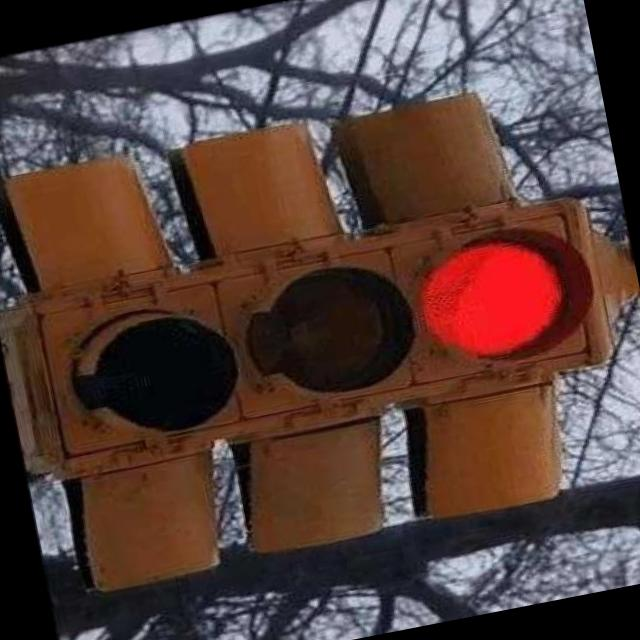red-lights: (392, 197, 630, 398)
